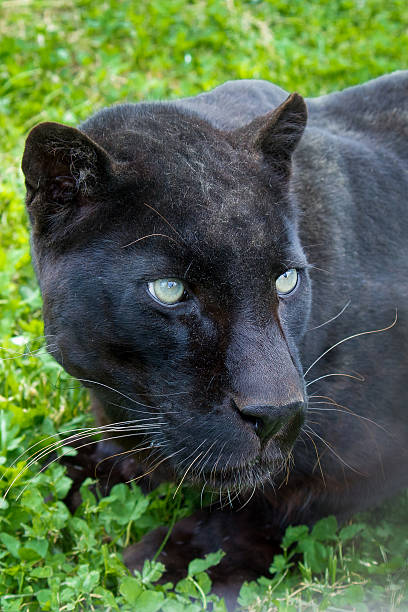panther: (12, 78, 408, 557)
